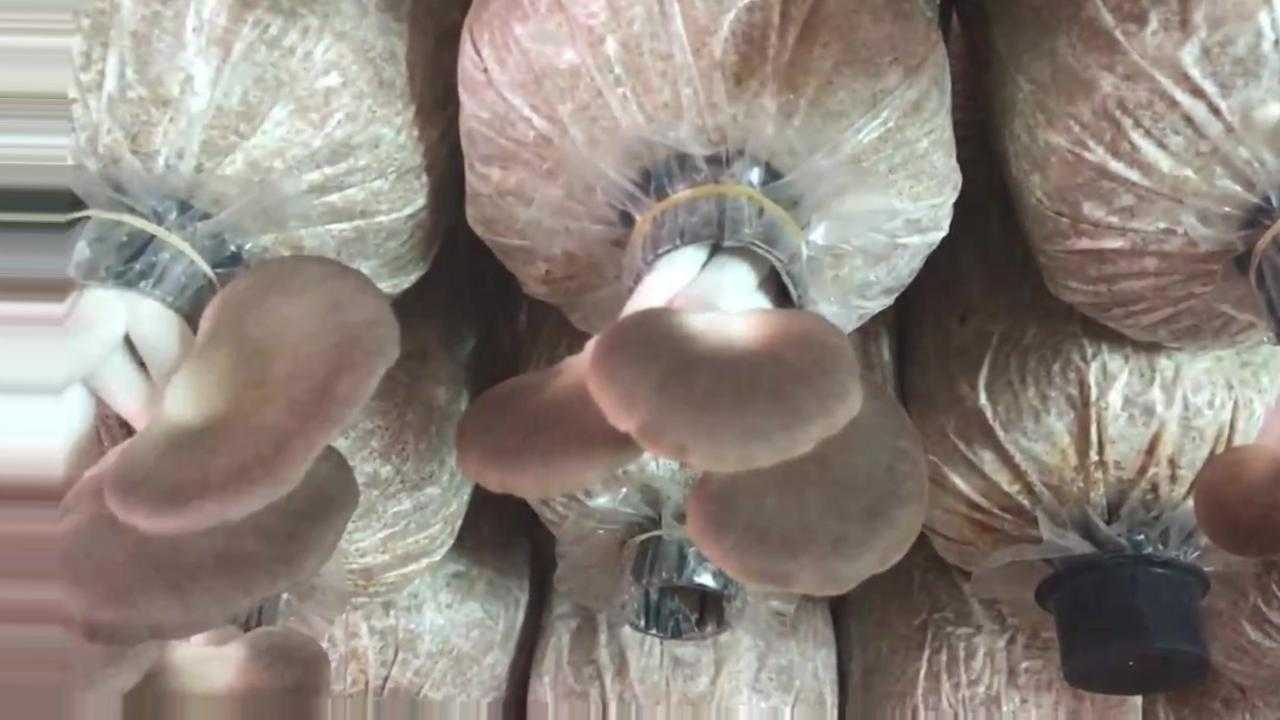nam: (456, 192, 929, 592), (1, 226, 400, 641), (1, 630, 333, 719), (1200, 195, 1280, 555)
